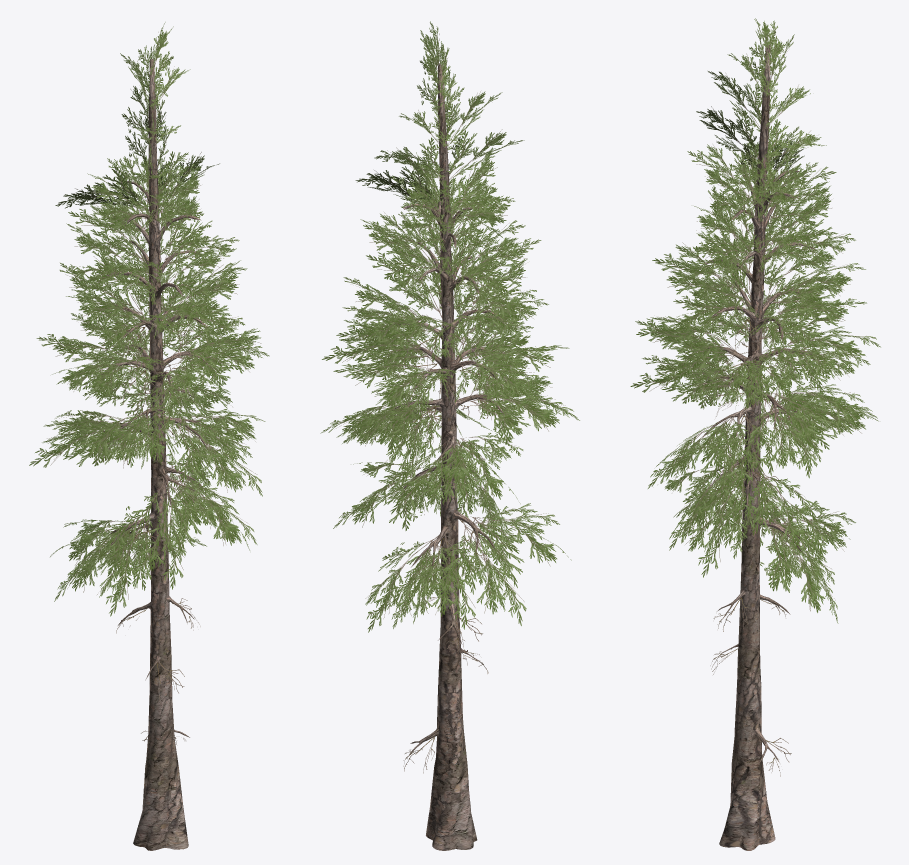
File: tree-spruce.glb
3 views of the same model, side by side, from view 1: azimuth 30°, elevation 25°; view 2: azimuth 150°, elevation 25°; view 3: azimuth 270°, elevation 25° (orthographic). The views are drawn at different scales.
Parts seen in each view (by area): view 1: spruce branch_1, bark08_0, branch06_2; view 2: spruce branch_1, bark08_0, branch06_2; view 3: spruce branch_1, bark08_0, branch06_2.
Boxes of the visible parts, x1=… form: spruce branch_1: x1=29, y1=22, x2=269, y2=616; bark08_0: x1=101, y1=59, x2=212, y2=850; branch06_2: x1=95, y1=311, x2=215, y2=744; spruce branch_1: x1=320, y1=21, x2=579, y2=632; bark08_0: x1=389, y1=64, x2=504, y2=850; branch06_2: x1=395, y1=315, x2=516, y2=773; spruce branch_1: x1=630, y1=18, x2=880, y2=623; bark08_0: x1=702, y1=45, x2=815, y2=850; branch06_2: x1=703, y1=303, x2=809, y2=776.
Bounding box in the file's own units: 3.22 × 10.52 × 3.16.
3 materials, 3 textured.
